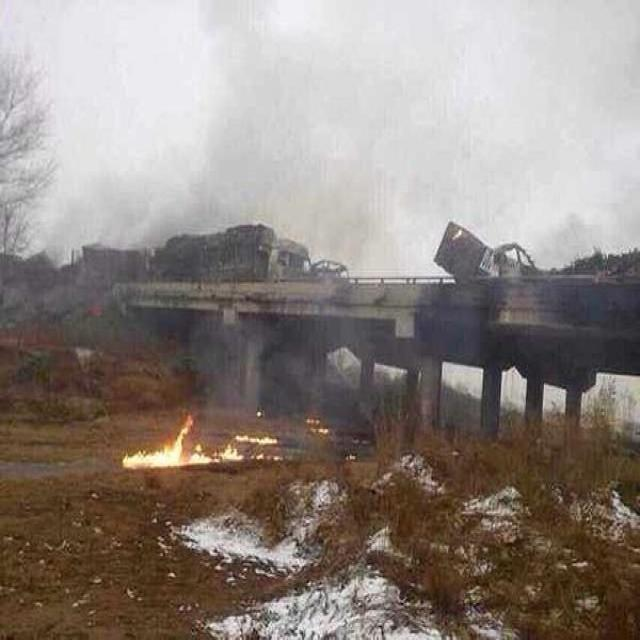fire: (113, 383, 370, 483)
